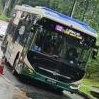bus: (54, 24, 62, 31)
